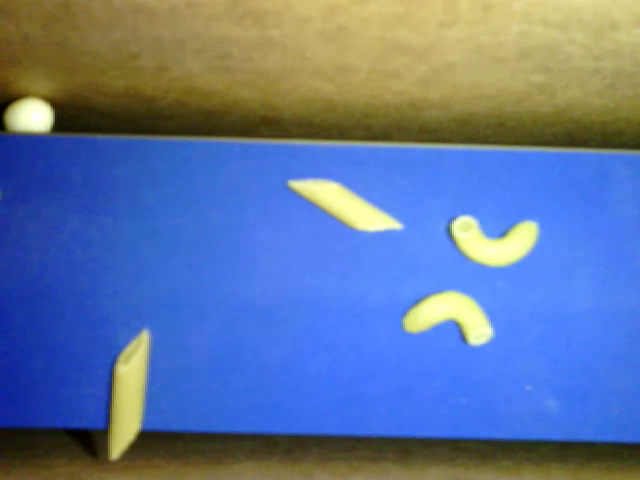elbow: (449, 213, 540, 267), (403, 290, 492, 345)
penne: (287, 178, 401, 232), (108, 329, 150, 461)
